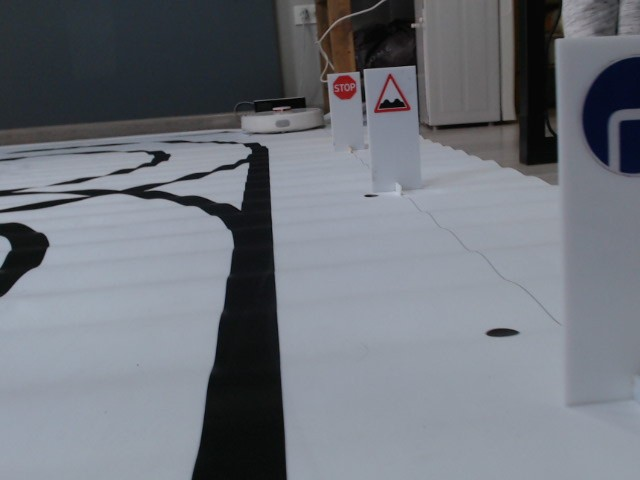Nerov: (372, 72, 411, 113)
Stop: (332, 74, 357, 100)
